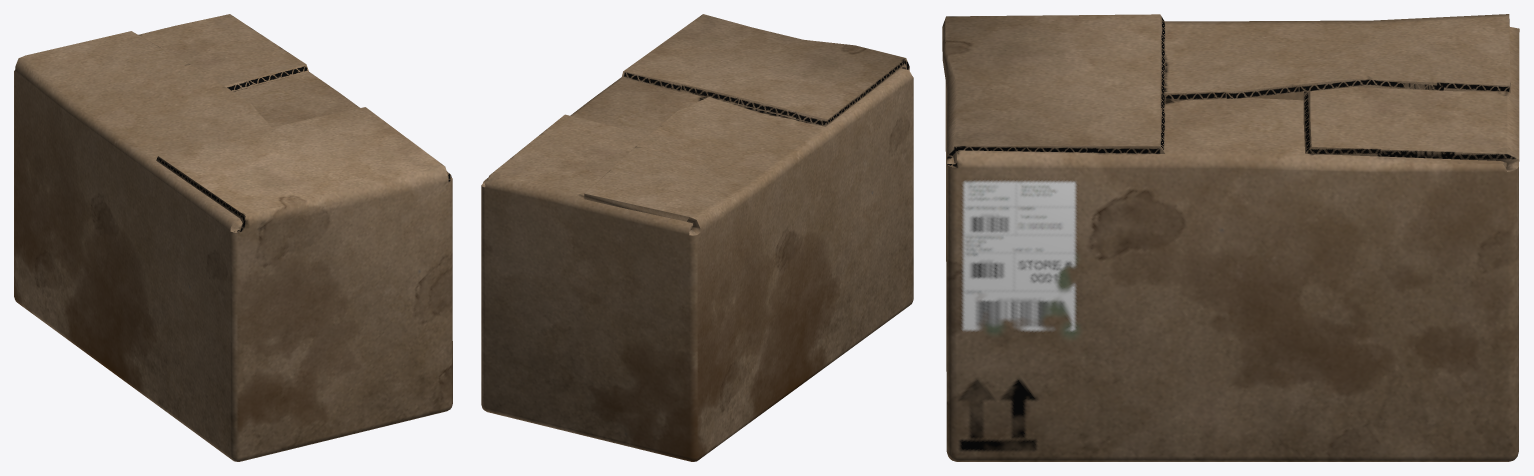
The model's file is cardboard_box.glb.
3 renders of one model, left to right at view 1: azimuth 30°, elevation 25°; view 2: azimuth 150°, elevation 25°; view 3: azimuth 270°, elevation 25°, orthographic. The views are drawn at different scales.
Parts seen in each view (by area): view 1: Object_2; view 2: Object_2; view 3: Object_2.
Boxes of the visible parts, box(x1,y1,x2,y2) form: Object_2: box(14, 14, 452, 461); Object_2: box(481, 14, 913, 461); Object_2: box(942, 14, 1519, 461).
Bounding box in the file's own units: 2.02 × 2.18 × 3.52.
Materials: 1 (1 with a texture image).
